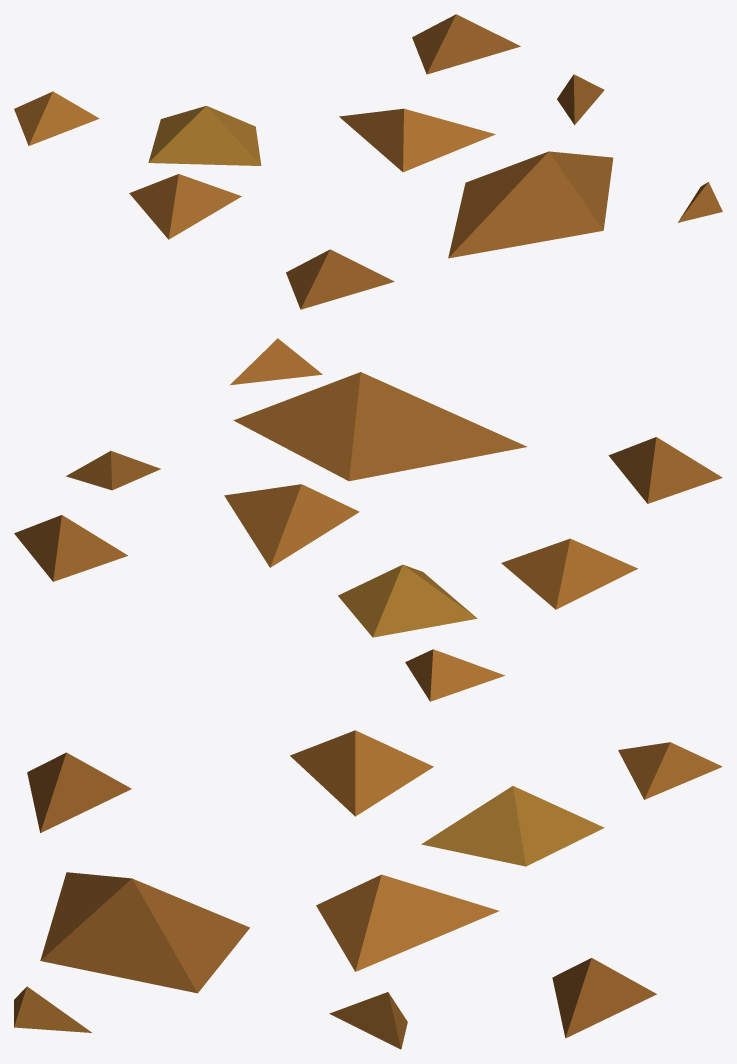
3 renders of one model, top to bottom at view 1: azimuth 30°, elevation 25°; view 2: azimuth 150°, elevation 25°; view 3: azimuth 270°, elevation 25°, orthographic. The views are drawn at different scales.
Bounding box in the file's own units: 108 × 12 × 108.
1 material, 1 textured.
